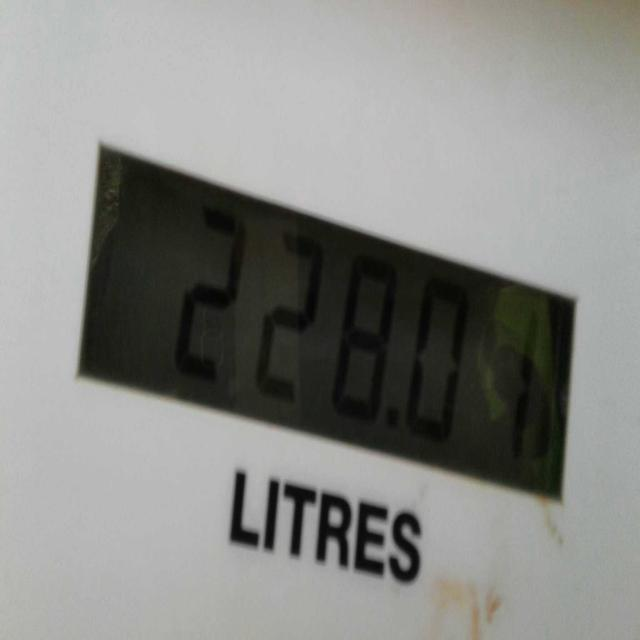.: (382, 388, 404, 451)
0: (398, 282, 468, 455)
1: (499, 296, 546, 472)
2: (168, 205, 246, 386), (257, 226, 327, 417)
8: (324, 247, 394, 438)
